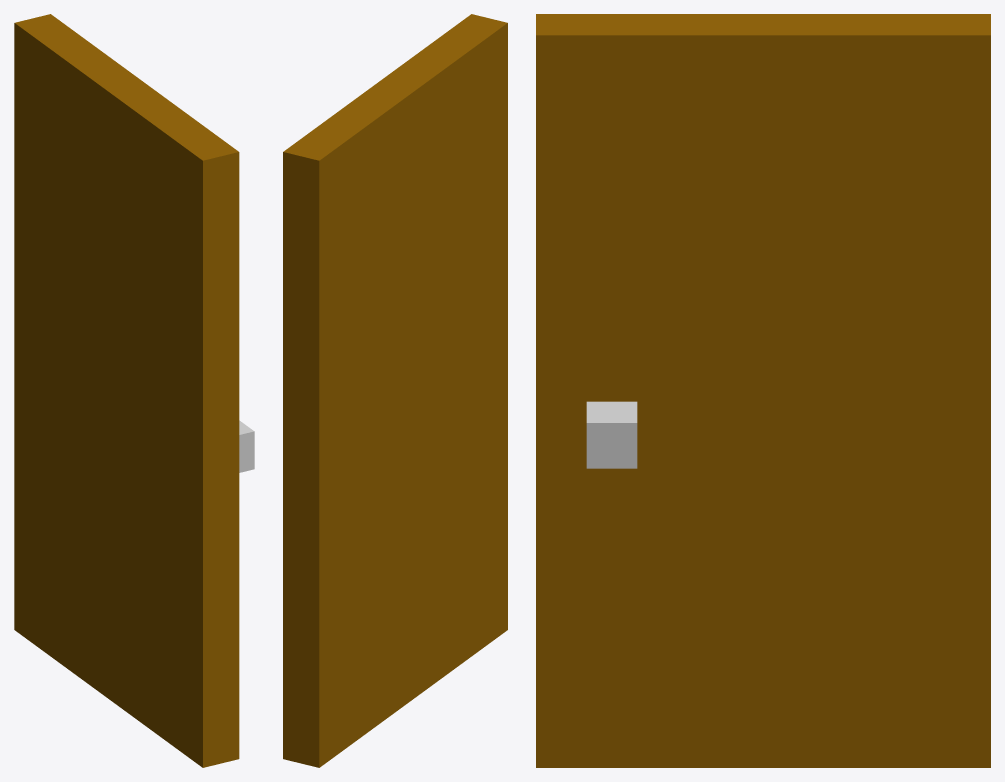
The model's file is --0-Speak easy door.obj.
The picture shows the model from 3 angles, left to right: view 1: azimuth 30°, elevation 25°; view 2: azimuth 150°, elevation 25°; view 3: azimuth 270°, elevation 25°; orthographic projection. The views are drawn at different scales.
Parts seen in each view (by area): view 1: Speak easy door; view 2: Speak easy door; view 3: Speak easy door.
Boxes of the visible parts, x1=… form: Speak easy door: x1=14, y1=14, x2=254, y2=767; Speak easy door: x1=283, y1=14, x2=507, y2=767; Speak easy door: x1=536, y1=14, x2=990, y2=767.
Bounding box in the file's own units: 0.2 × 1.6 × 0.9.
1 material, 1 textured.
